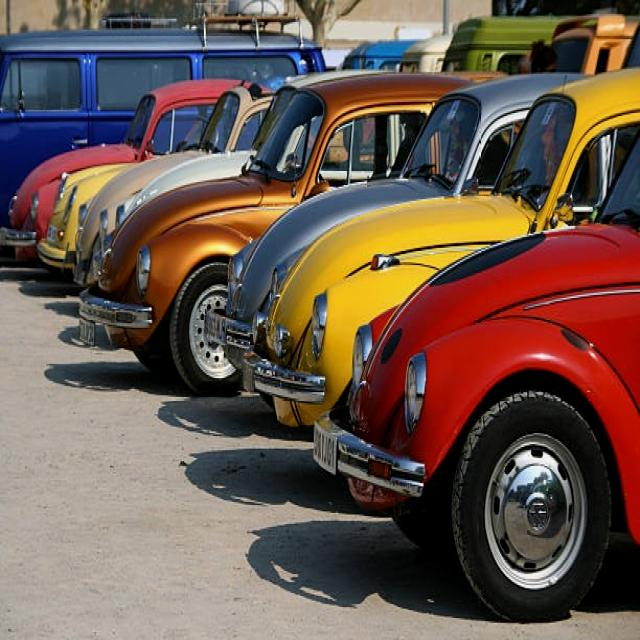car: (93, 66, 536, 405), (343, 130, 640, 612)
